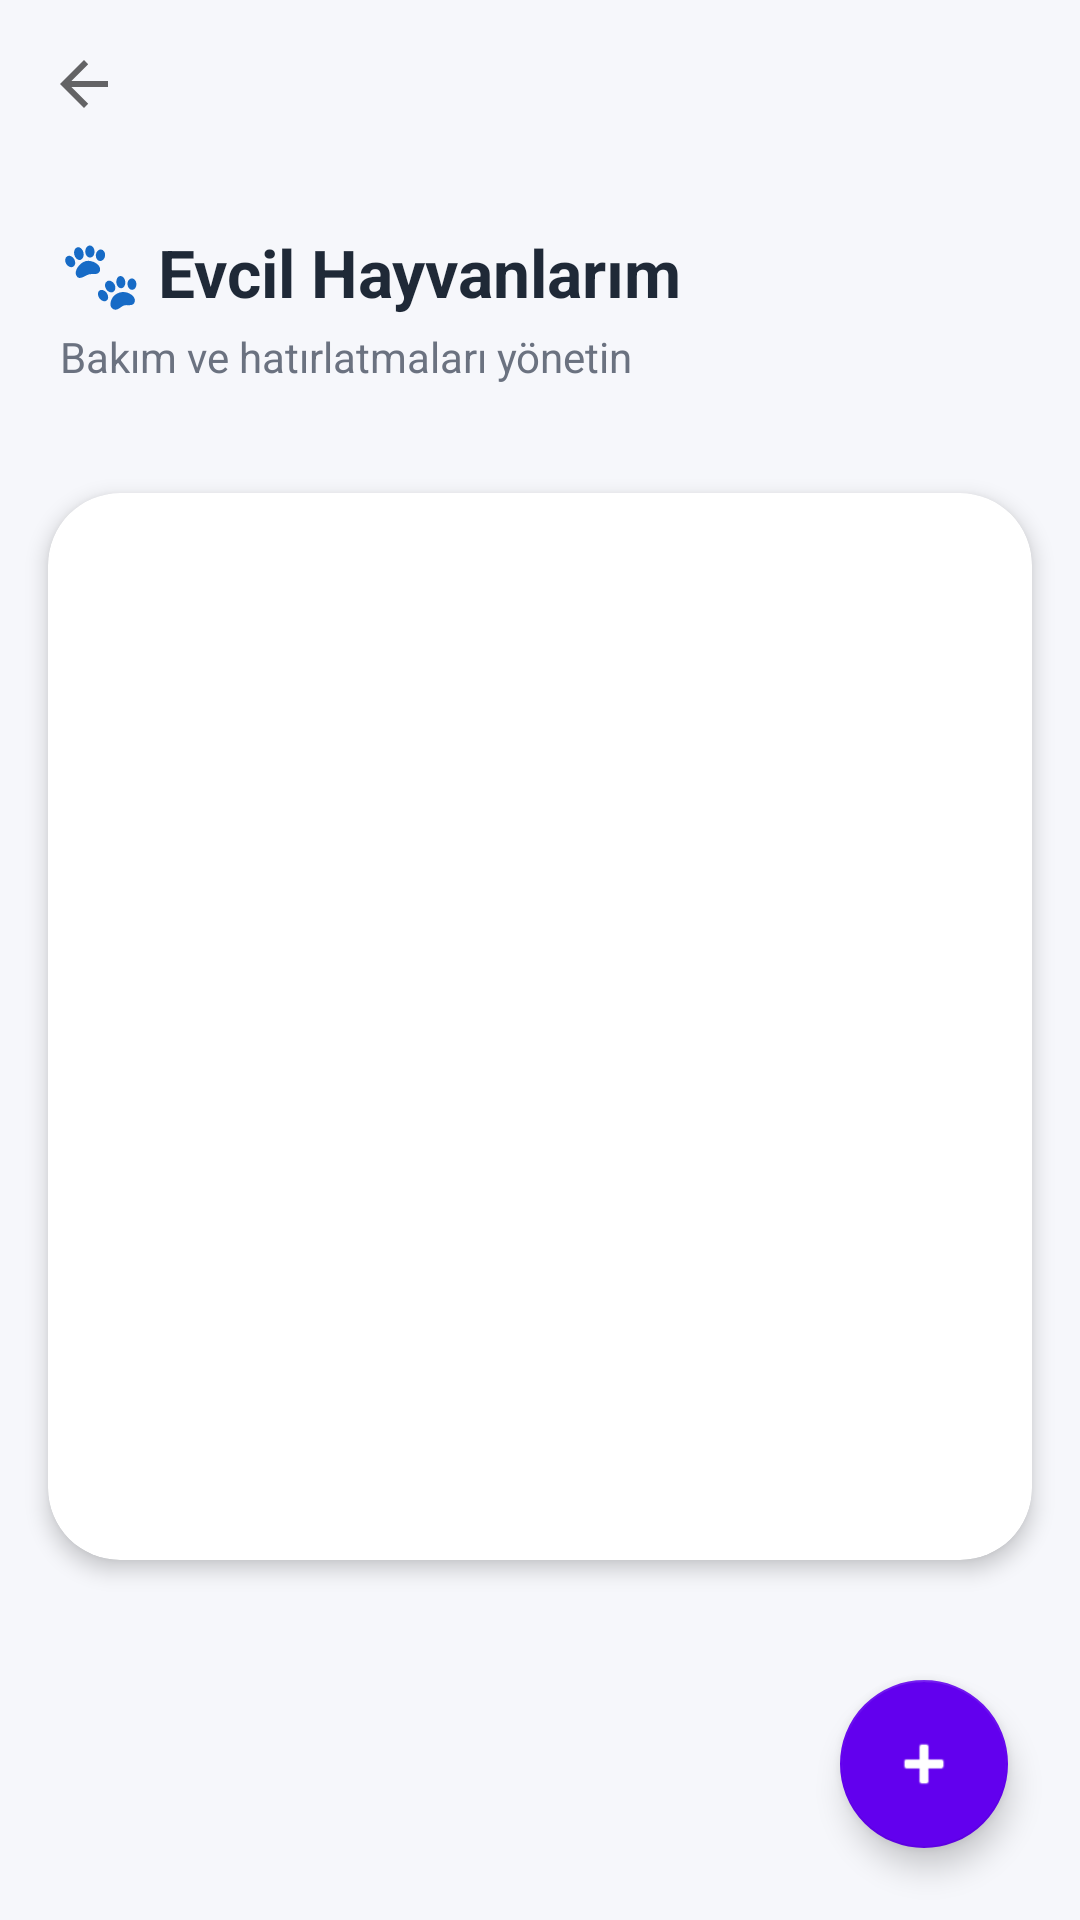

Named icons in this screenshot (1080×1920) and their bounding boxes, (x1, y1, x2, y2):
Add Pet: (840, 1680, 1008, 1848)
